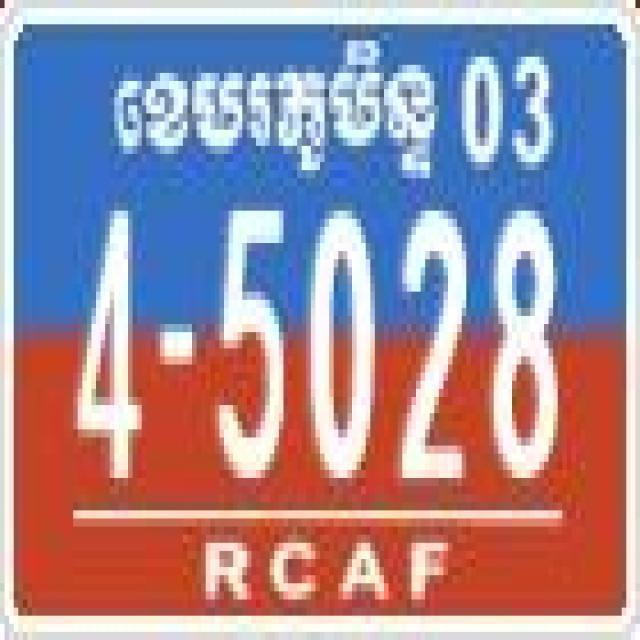RCAF: (110, 32, 442, 186)
